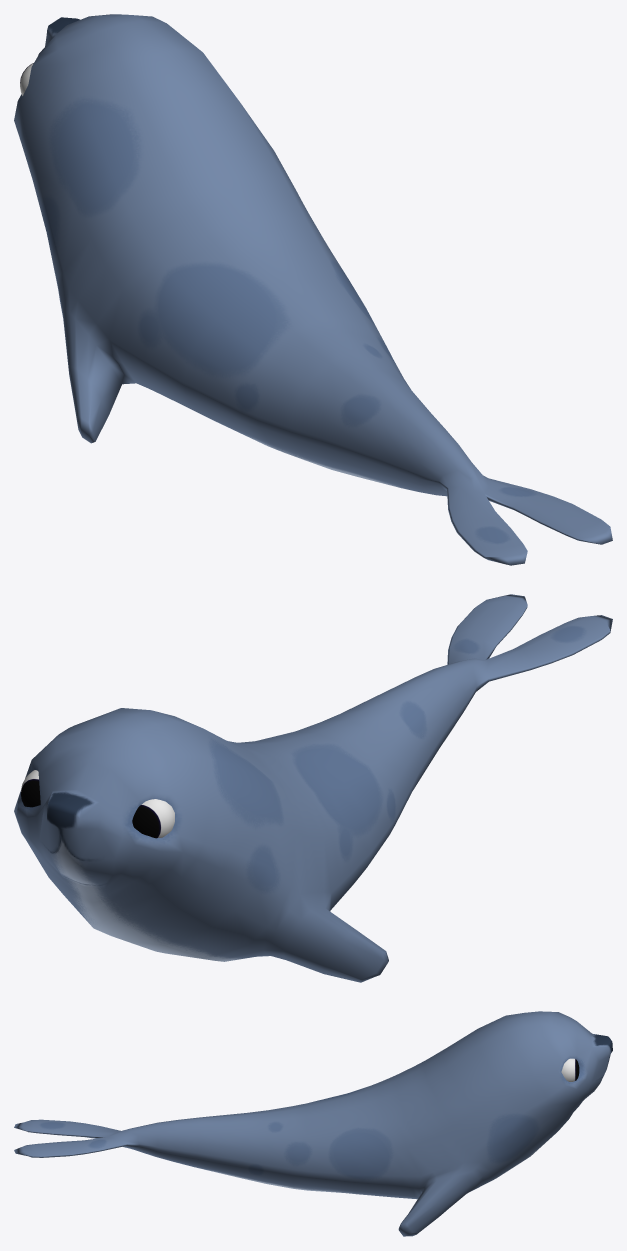
The model's file is Seal.fbx.
The picture shows the model from 3 angles, top to bottom: view 1: azimuth 30°, elevation 25°; view 2: azimuth 150°, elevation 25°; view 3: azimuth 270°, elevation 25°; orthographic projection. The views are drawn at different scales.
Visible parts, largest first — view 1: Body1; view 2: Body1, Eye_L, Eye_R; view 3: Body1, Eye_R.
Part boxes in pixels (left/top/right/bottom): Body1: left=14, top=14, right=612, bottom=565; Body1: left=14, top=594, right=612, bottom=982; Eye_L: left=132, top=799, right=174, bottom=838; Eye_R: left=21, top=770, right=40, bottom=807; Body1: left=14, top=1011, right=612, bottom=1236; Eye_R: left=561, top=1058, right=579, bottom=1081.
Size of the model in its own units: 9.28 by 8.81 by 26.37.
